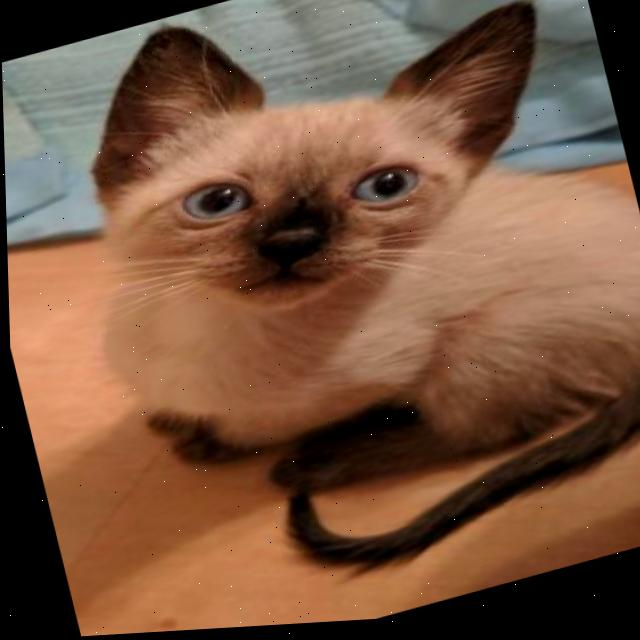Siamese: (29, 0, 640, 629)
